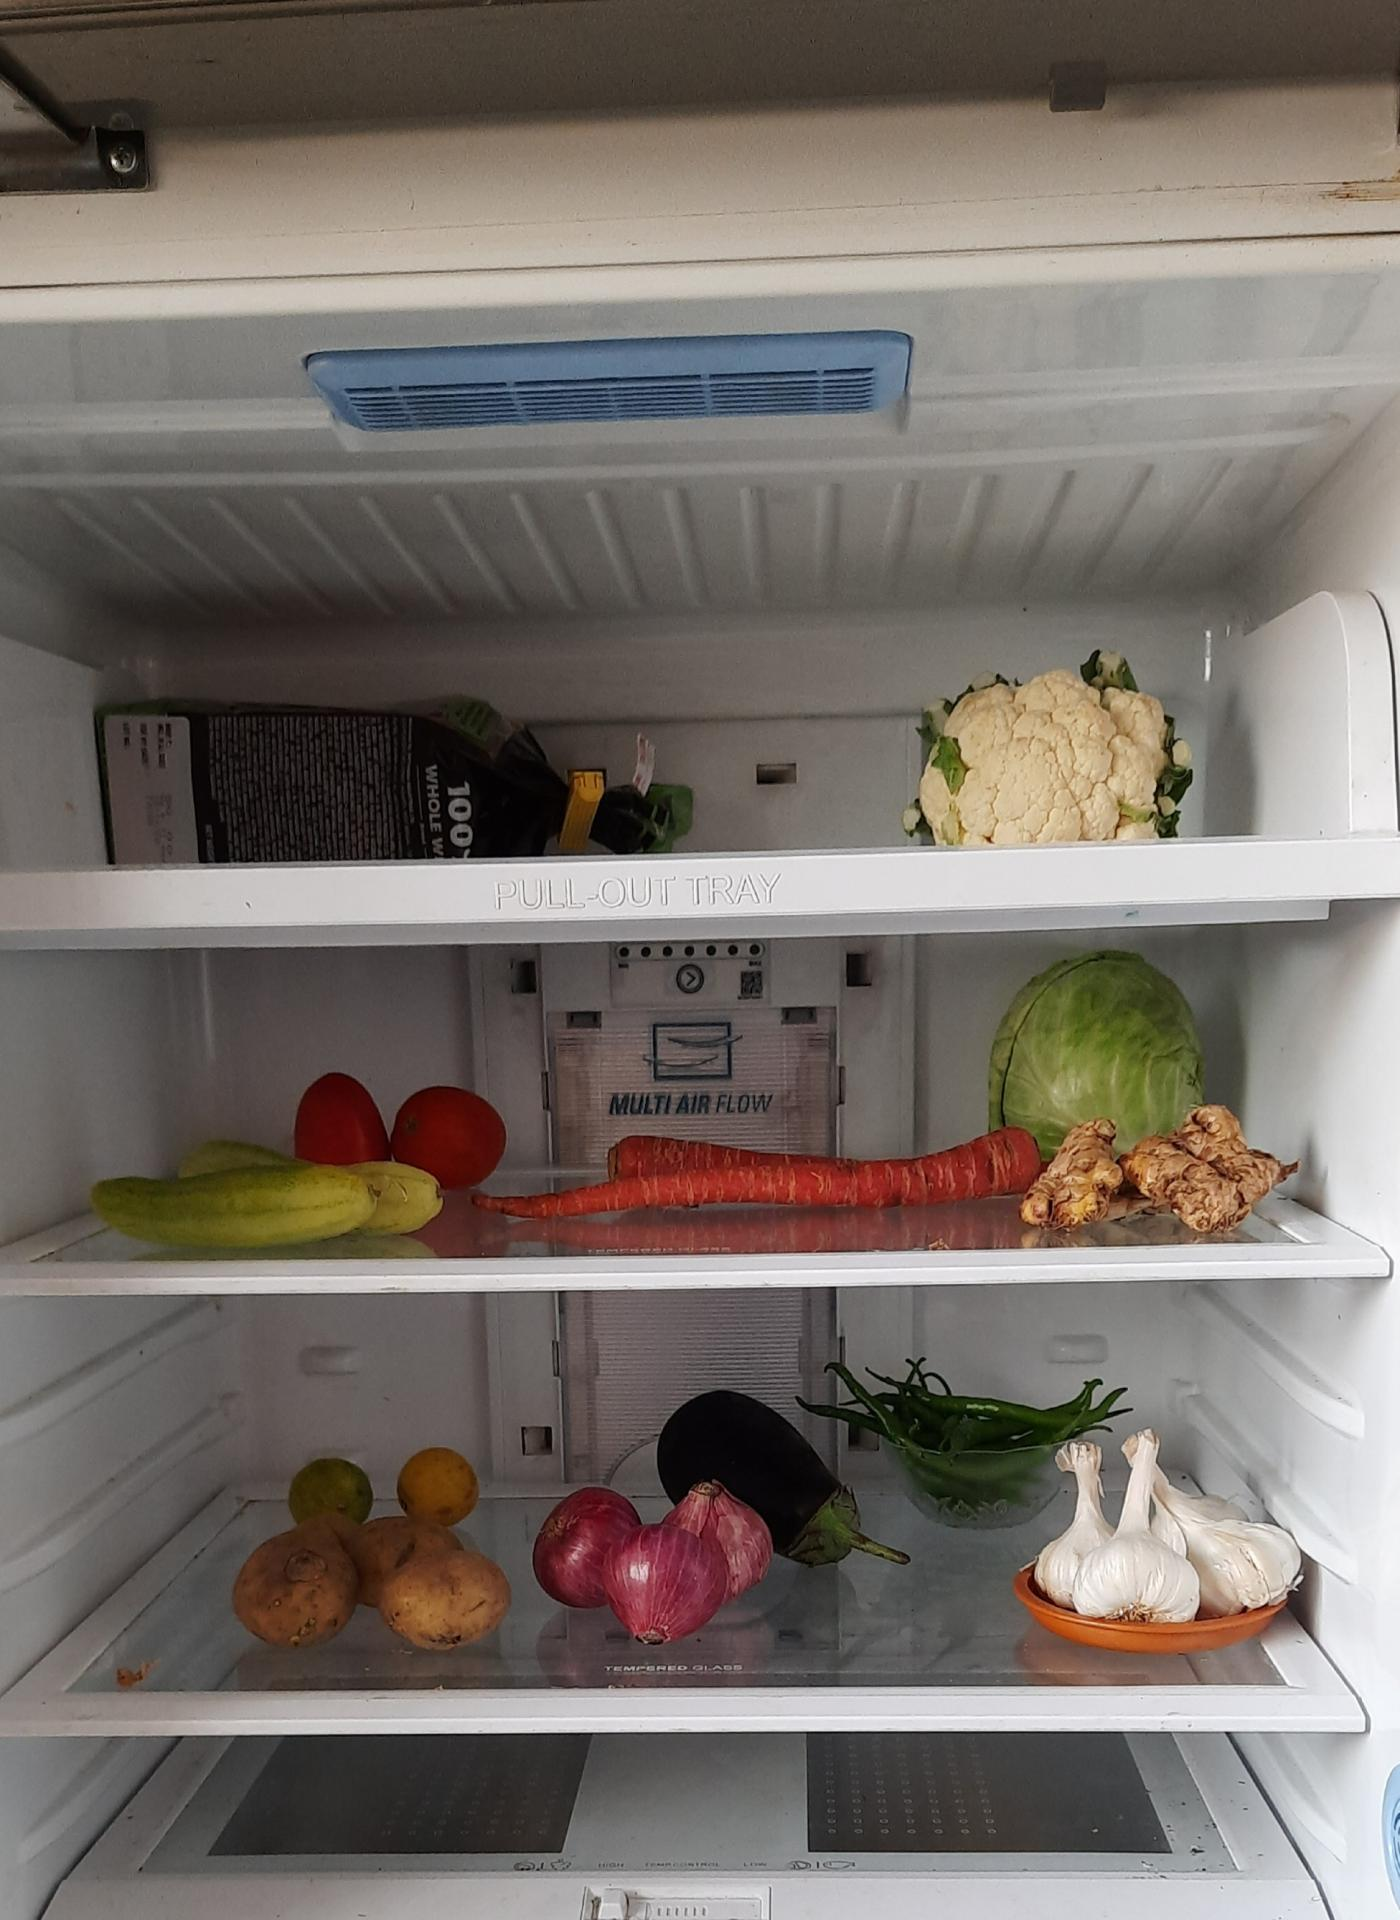bread: (98, 669, 722, 853)
brinjal: (652, 1388, 917, 1585)
cabbage: (991, 960, 1227, 1124)
carrots: (568, 1142, 1017, 1239)
cauliflower: (902, 650, 1187, 847)
chillies: (810, 1349, 1106, 1485)
cucumber: (94, 1148, 423, 1257)
garlic: (1056, 1455, 1264, 1617)
ginger: (1027, 1122, 1305, 1234)
lemon: (295, 1450, 479, 1520)
onion: (544, 1485, 780, 1643)
potato: (243, 1519, 516, 1650)
tomato: (300, 1073, 525, 1193)
